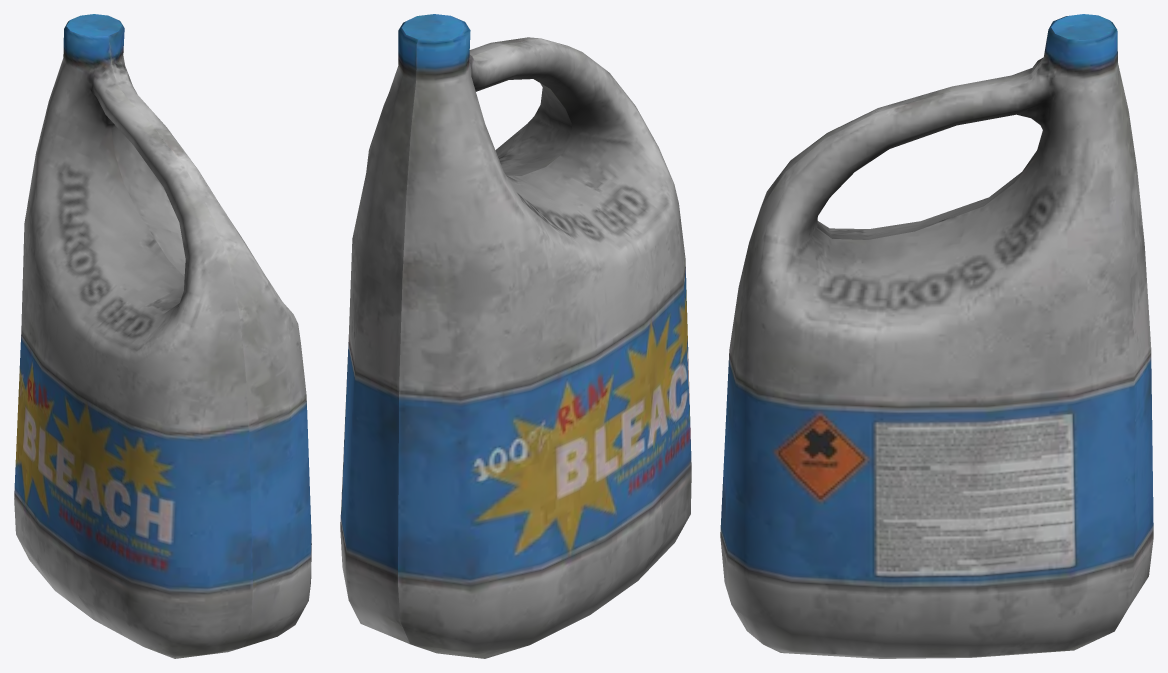
File: bleach.glb
3 renders of one model, left to right at view 1: azimuth 30°, elevation 25°; view 2: azimuth 150°, elevation 25°; view 3: azimuth 270°, elevation 25°, orthographic. The views are drawn at different scales.
Visible parts, largest first — view 1: bleach; view 2: bleach; view 3: bleach.
Part boxes in pixels (x1,y1,x2,y2): bleach: (14, 14, 311, 658); bleach: (340, 14, 691, 658); bleach: (720, 14, 1153, 658).
Size of the model in its own units: 0.2124 by 0.5353 by 0.3453.
1 material, 1 textured.
